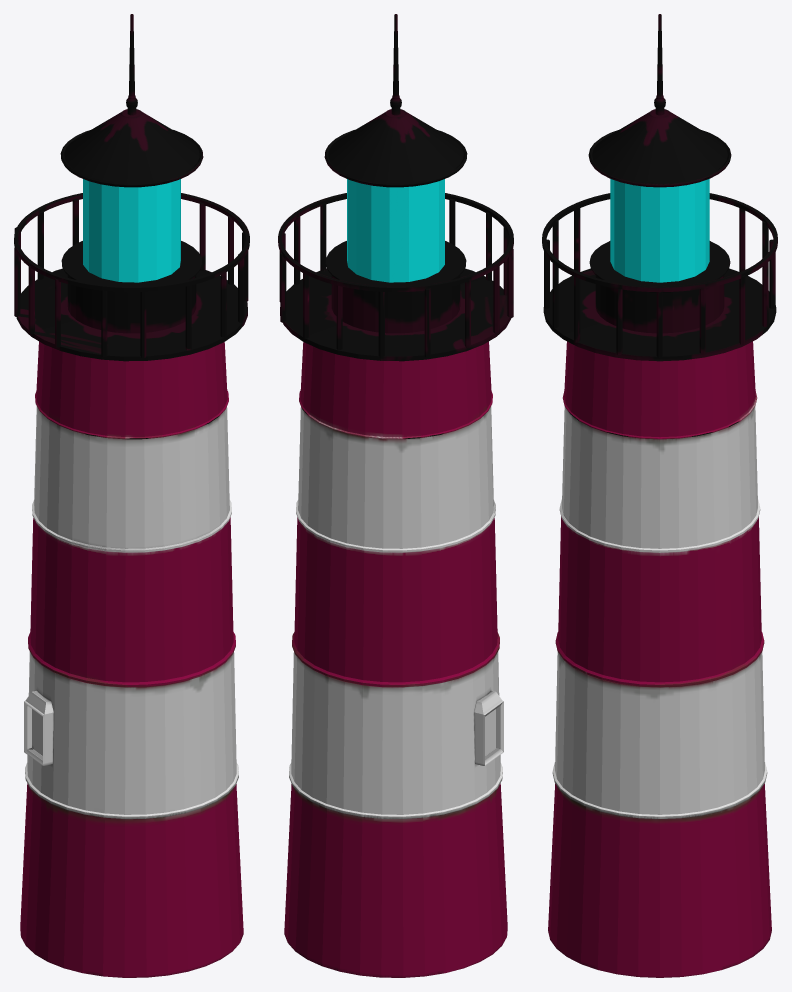
File: lighthouse.obj
3 views of the same model, side by side, from view 1: azimuth 30°, elevation 25°; view 2: azimuth 150°, elevation 25°; view 3: azimuth 270°, elevation 25° (orthographic).
Visible parts, largest first — view 1: Cylinder, Cylinder.001; view 2: Cylinder, Cylinder.001; view 3: Cylinder, Cylinder.001.
Part boxes in pixels (box(x1,y1,x2,y2)): Cylinder: box(14, 14, 249, 977); Cylinder.001: box(83, 179, 180, 282); Cylinder: box(278, 14, 513, 977); Cylinder.001: box(347, 179, 444, 282); Cylinder: box(542, 14, 777, 977); Cylinder.001: box(610, 179, 709, 282).
Size of the model in its own units: 14.61 by 62.47 by 14.58.
Materials: 2 (2 with a texture image).
